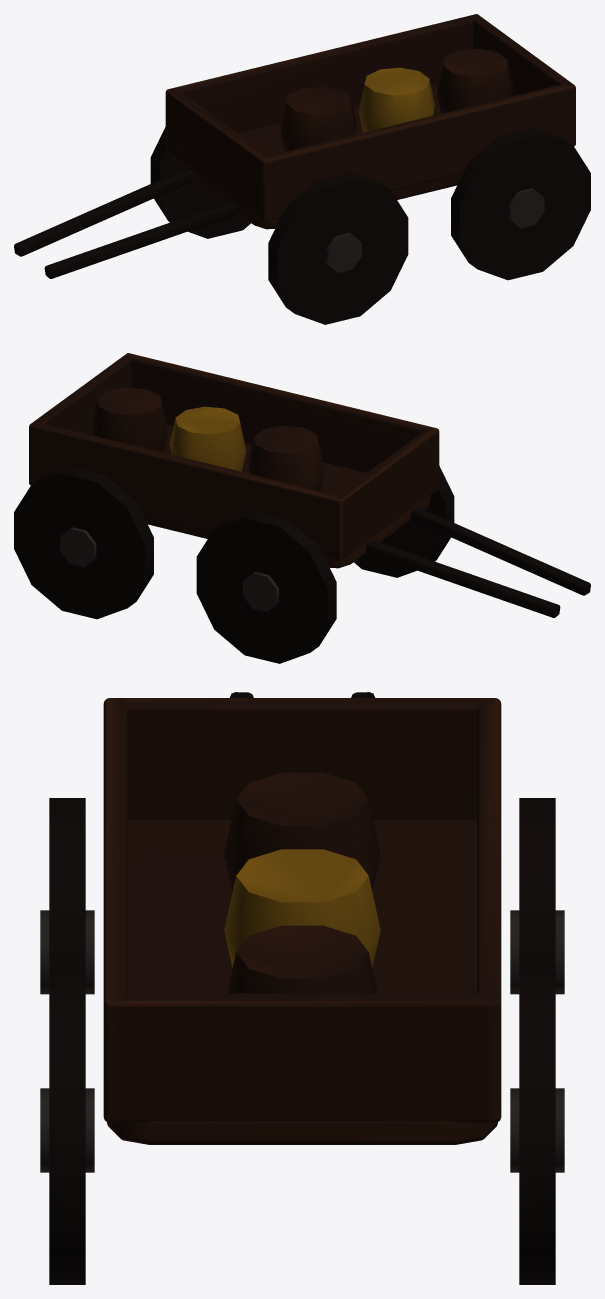
The model's file is Carroca.fbx.
3 views of the same model, one above another, from view 1: azimuth 30°, elevation 25°; view 2: azimuth 150°, elevation 25°; view 3: azimuth 270°, elevation 25° (orthographic). The views are drawn at different scales.
Parts seen in each view (by area): view 1: Carroca; view 2: Carroca; view 3: Carroca.
Boxes of the visible parts, x1,y1,x2,y2 form: Carroca: (14,14,590,324); Carroca: (14,353,590,663); Carroca: (40,692,564,1284).
Bounding box in the file's own units: 3.81 × 1.21 × 1.74.
